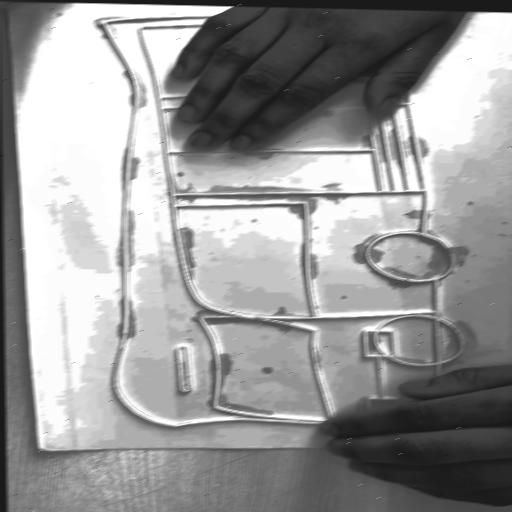bus: (79, 0, 475, 459)
top_left: (3, 0, 15, 6)
top_right: (32, 445, 53, 453)
